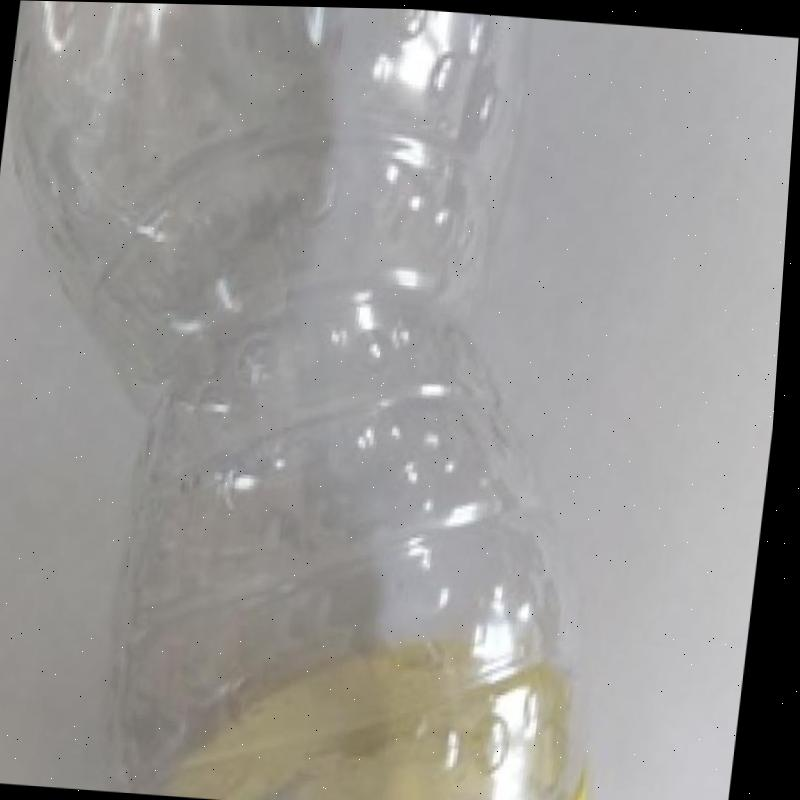botella: (0, 0, 690, 800)
